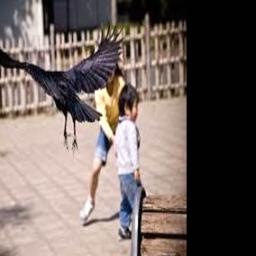Crow: (0, 20, 126, 152)
